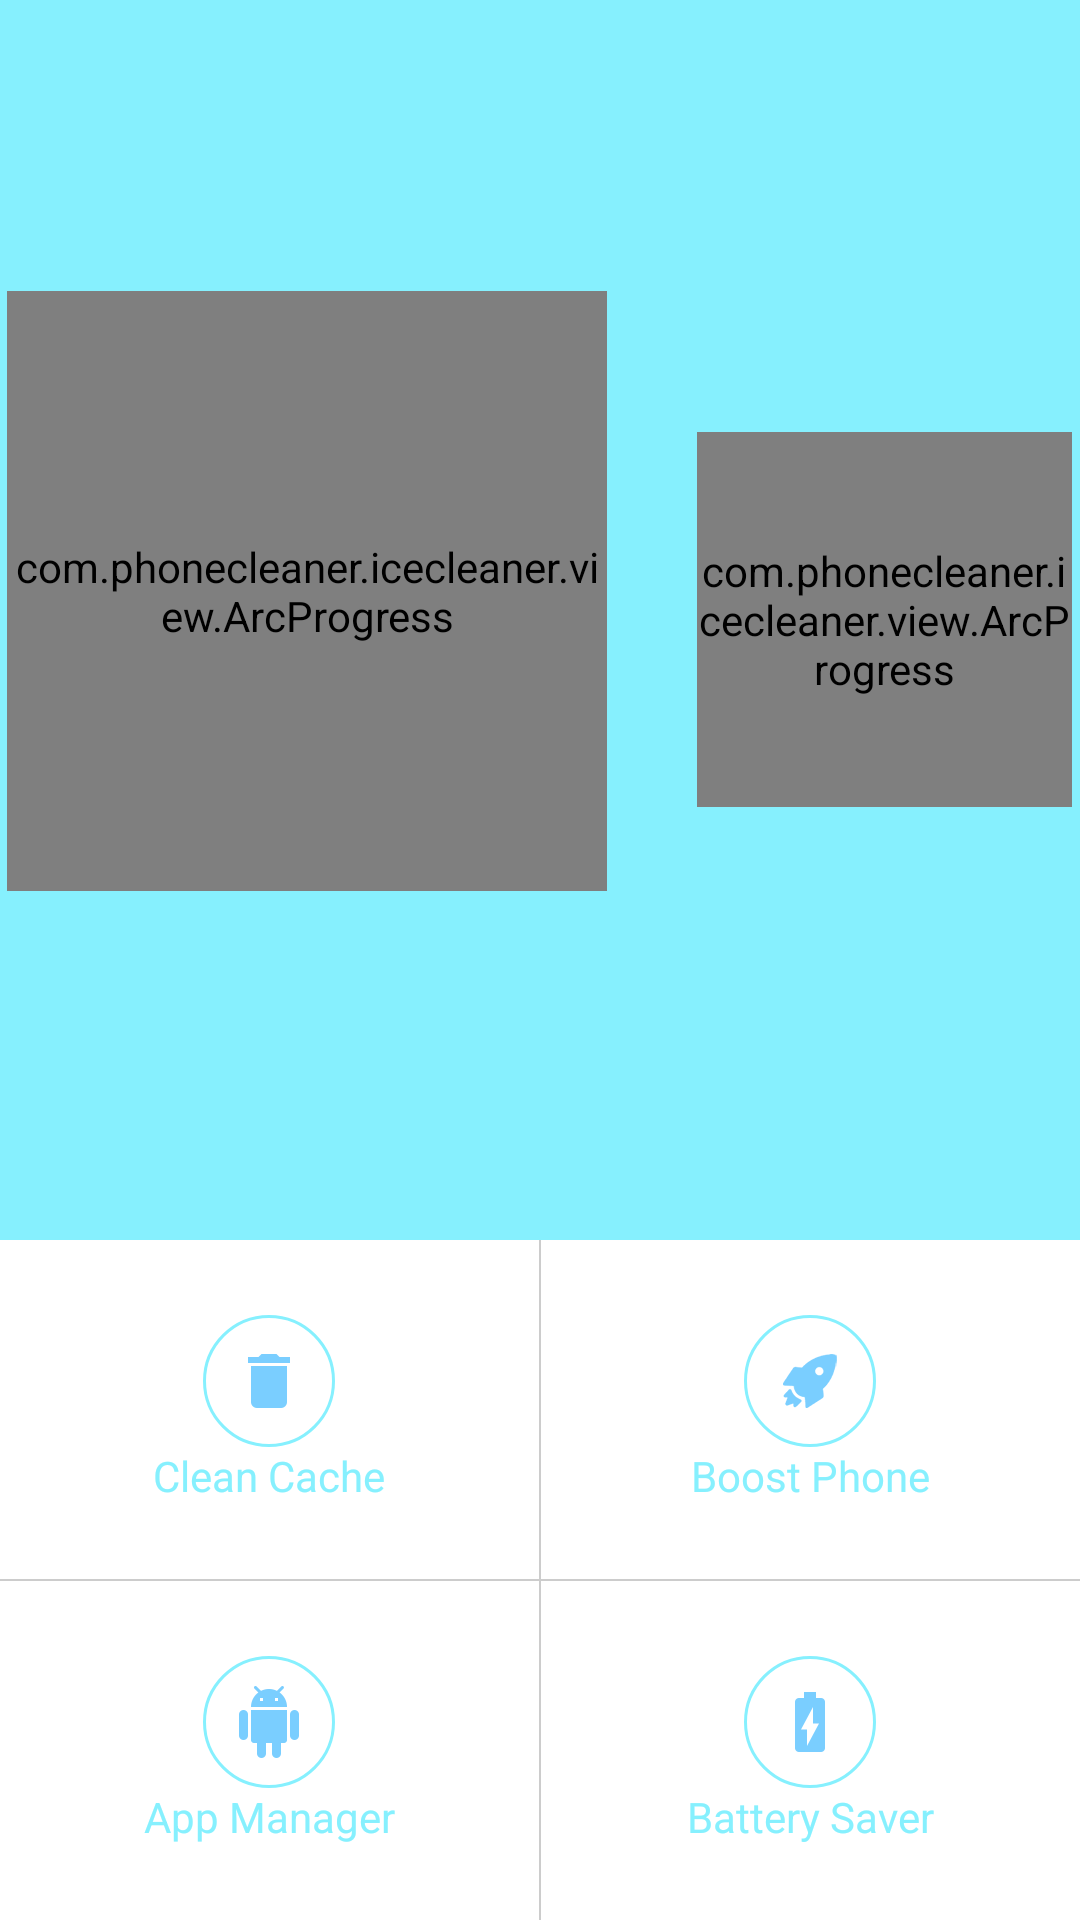

Named icons in this screenshot (1080 x 1920) and their bounding boxes, (x1, y1, x2, y2):
battery charging full: (744, 1656, 876, 1788)
delete: (203, 1315, 335, 1447)
